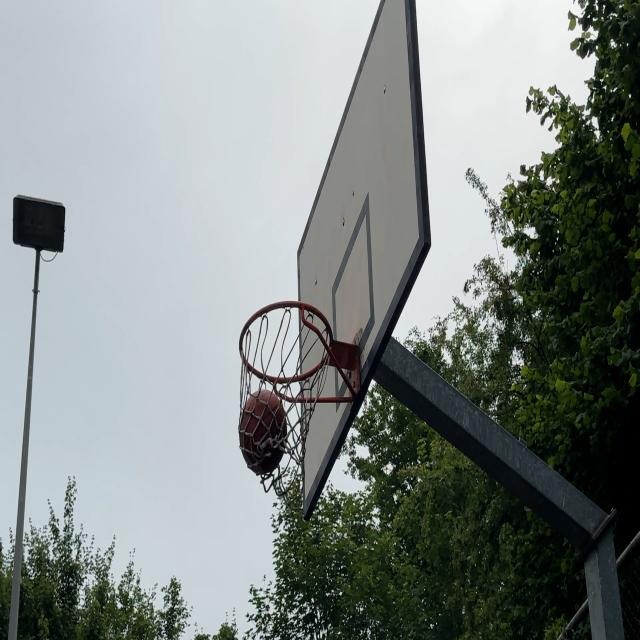Goal: (239, 390, 287, 472)
